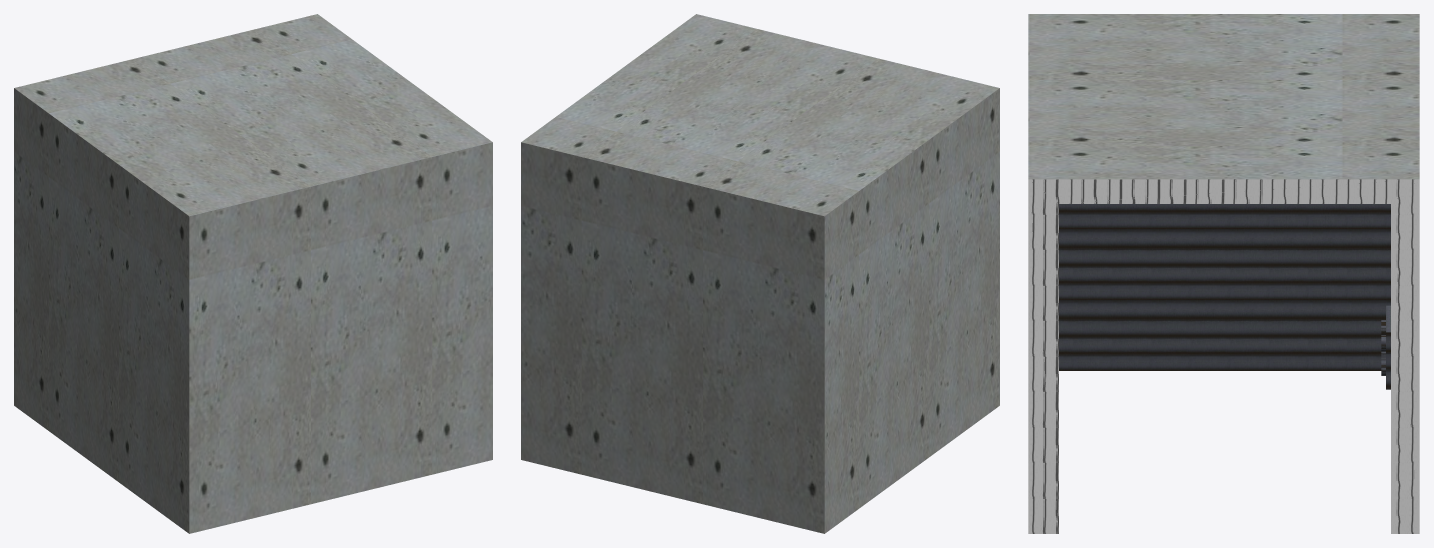
Rendered from westElevator.dae.
3 views of the same model, side by side, from view 1: azimuth 30°, elevation 25°; view 2: azimuth 150°, elevation 25°; view 3: azimuth 270°, elevation 25° (orthographic). The views are drawn at different scales.
Visible parts, largest first — view 1: SketchUp; view 2: SketchUp; view 3: SketchUp (×3).
Boxes of the visible parts, left/top/right/bottom form: SketchUp: left=14, top=14, right=492, bottom=533; SketchUp: left=521, top=14, right=999, bottom=533; SketchUp (×3): left=1028, top=14, right=1419, bottom=533.
Size of the model in its own units: 120 by 120 by 120.
7 materials, 6 textured.
